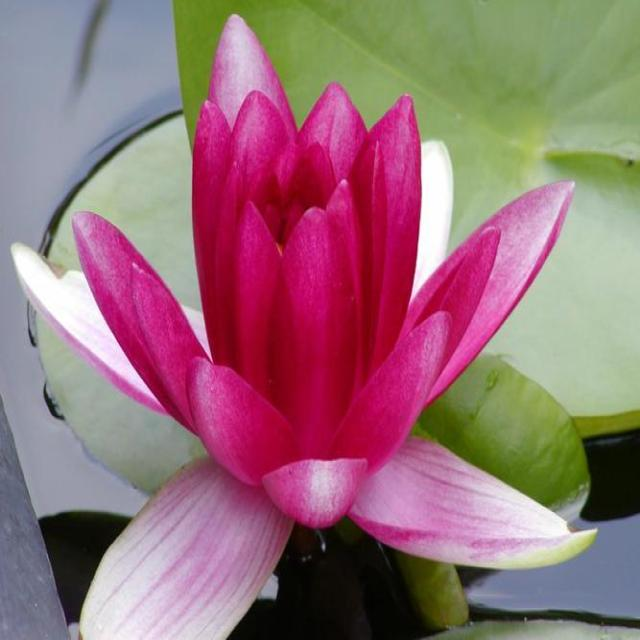water-lily: (71, 33, 570, 593)
